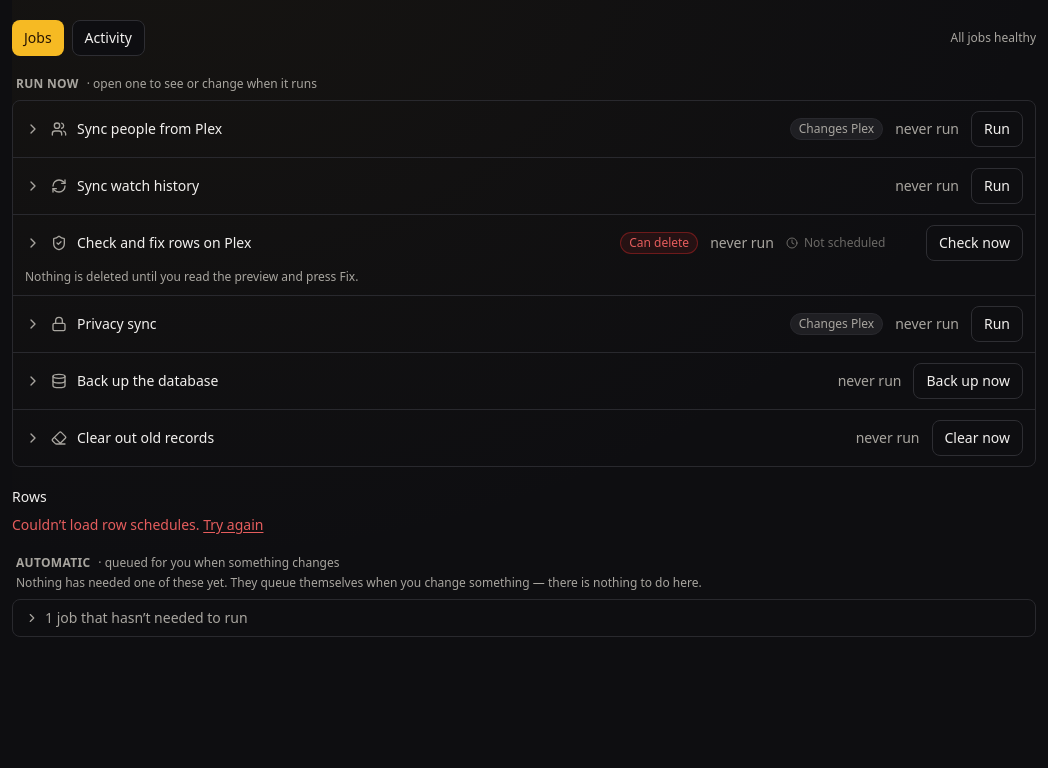
it: JobsPage — sync check › previews before it changes anything
Click the button with aria-label "Check now: Check and fix rows on Plex" at {"x": 974, "y": 243}, box left=926, top=225, right=1023, bottom=261
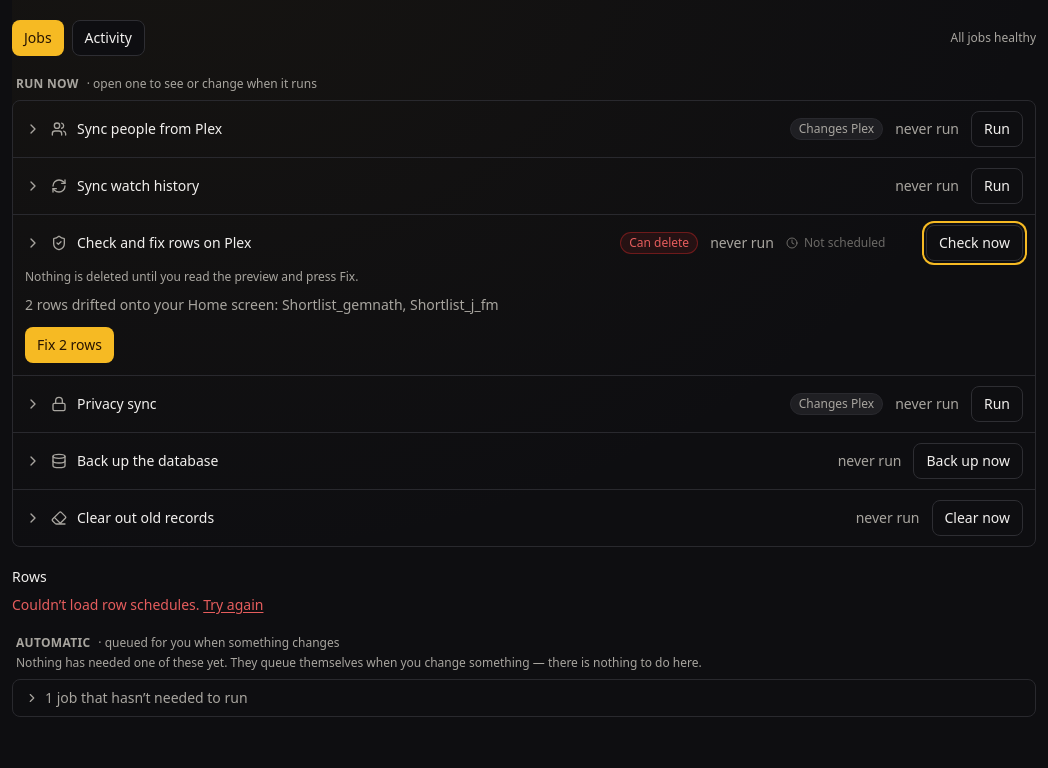
Check: the text "Shortlist_gemnath" is shown, box left=25, top=295, right=498, bottom=314
Check: the button "Fix 2 rows" is shown, box left=25, top=327, right=114, bottom=363
